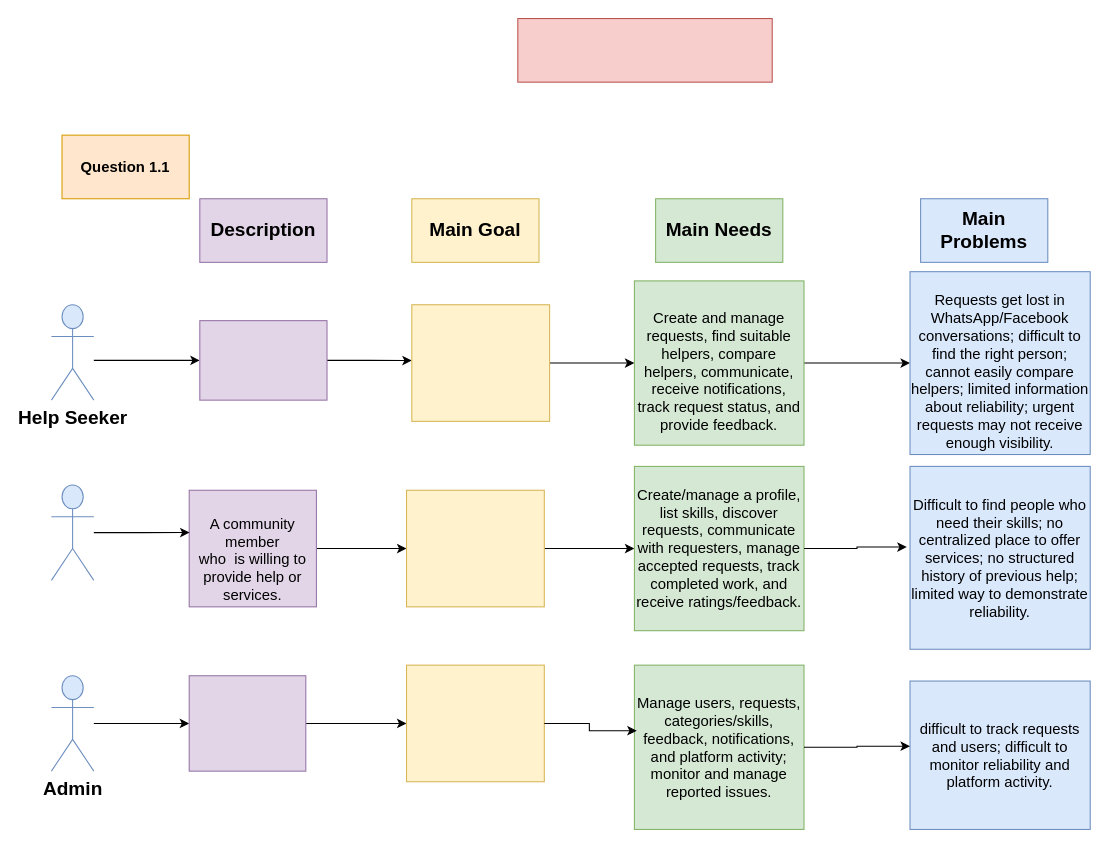
This 1109x848 diagram has some shape labels left out. Each missing label, with the centre of its shape:
"A person responsible for managing the HelpLink platform." goes at [247,723].
"A person who needs assistance with an everyday task" goes at [263,360].
"Find a suitable and reliable person to help them and get the request completed." goes at [480,362].
"Find suitable requests and offer help based on their skills and availability." goes at [474,548].
"Helper" goes at [72,532].
"Keep the platform organized, safe, reliable, and functioning properly." goes at [474,723].
"Techlarious Exam" goes at [644,49].
